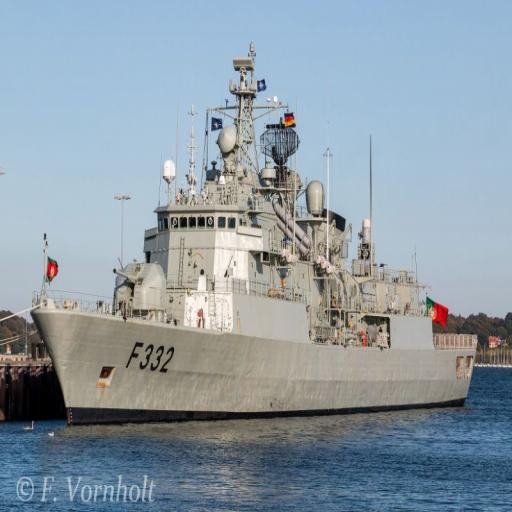Fragata: (29, 42, 481, 427)
